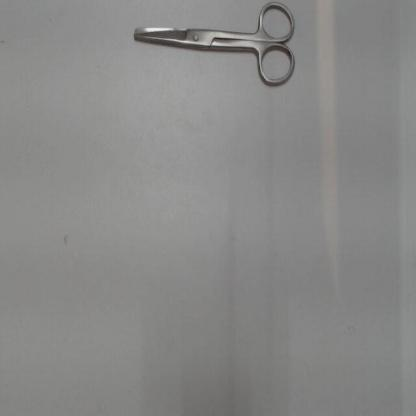Dressing Scissors: (128, 1, 302, 96)
